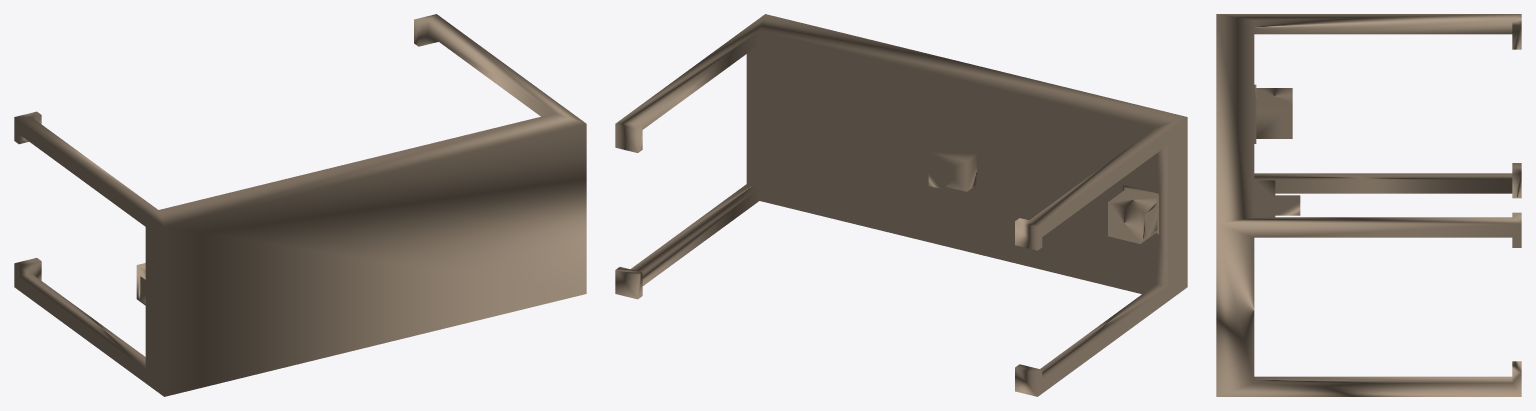
Rendered from crane.glb.
The picture shows the model from 3 angles, left to right: view 1: azimuth 30°, elevation 25°; view 2: azimuth 150°, elevation 25°; view 3: azimuth 270°, elevation 25°; orthographic projection.
Visible parts, largest first — view 1: crane; view 2: crane; view 3: crane.
Boxes of the visible parts, x1,y1,x2,y2 form: crane: (14, 14, 586, 396); crane: (615, 14, 1187, 396); crane: (1216, 14, 1521, 396).
Size of the model in its own units: 26 by 10 by 16.
